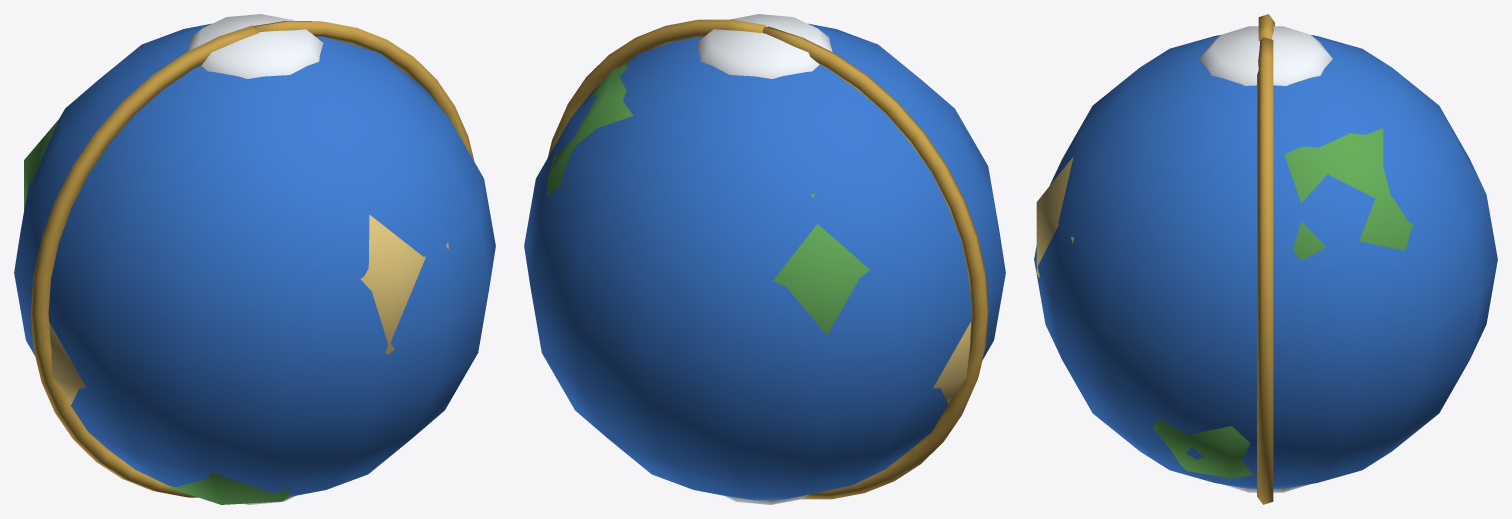
Rendered from p_globe.glb.
3 renders of one model, left to right at view 1: azimuth 30°, elevation 25°; view 2: azimuth 150°, elevation 25°; view 3: azimuth 270°, elevation 25°, orthographic. The views are drawn at different scales.
Visible parts, largest first — view 1: globe; view 2: globe; view 3: globe.
Boxes of the visible parts, x1=… form: globe: x1=14, y1=14, x2=495, y2=504; globe: x1=524, y1=14, x2=1005, y2=504; globe: x1=1034, y1=14, x2=1497, y2=504.
Bounding box in the file's own units: 1.91 × 1.91 × 1.8.
